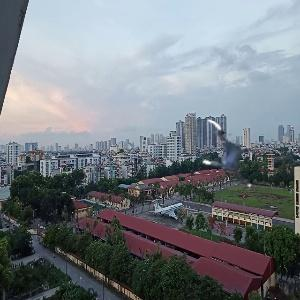drone: (189, 117, 262, 190)
